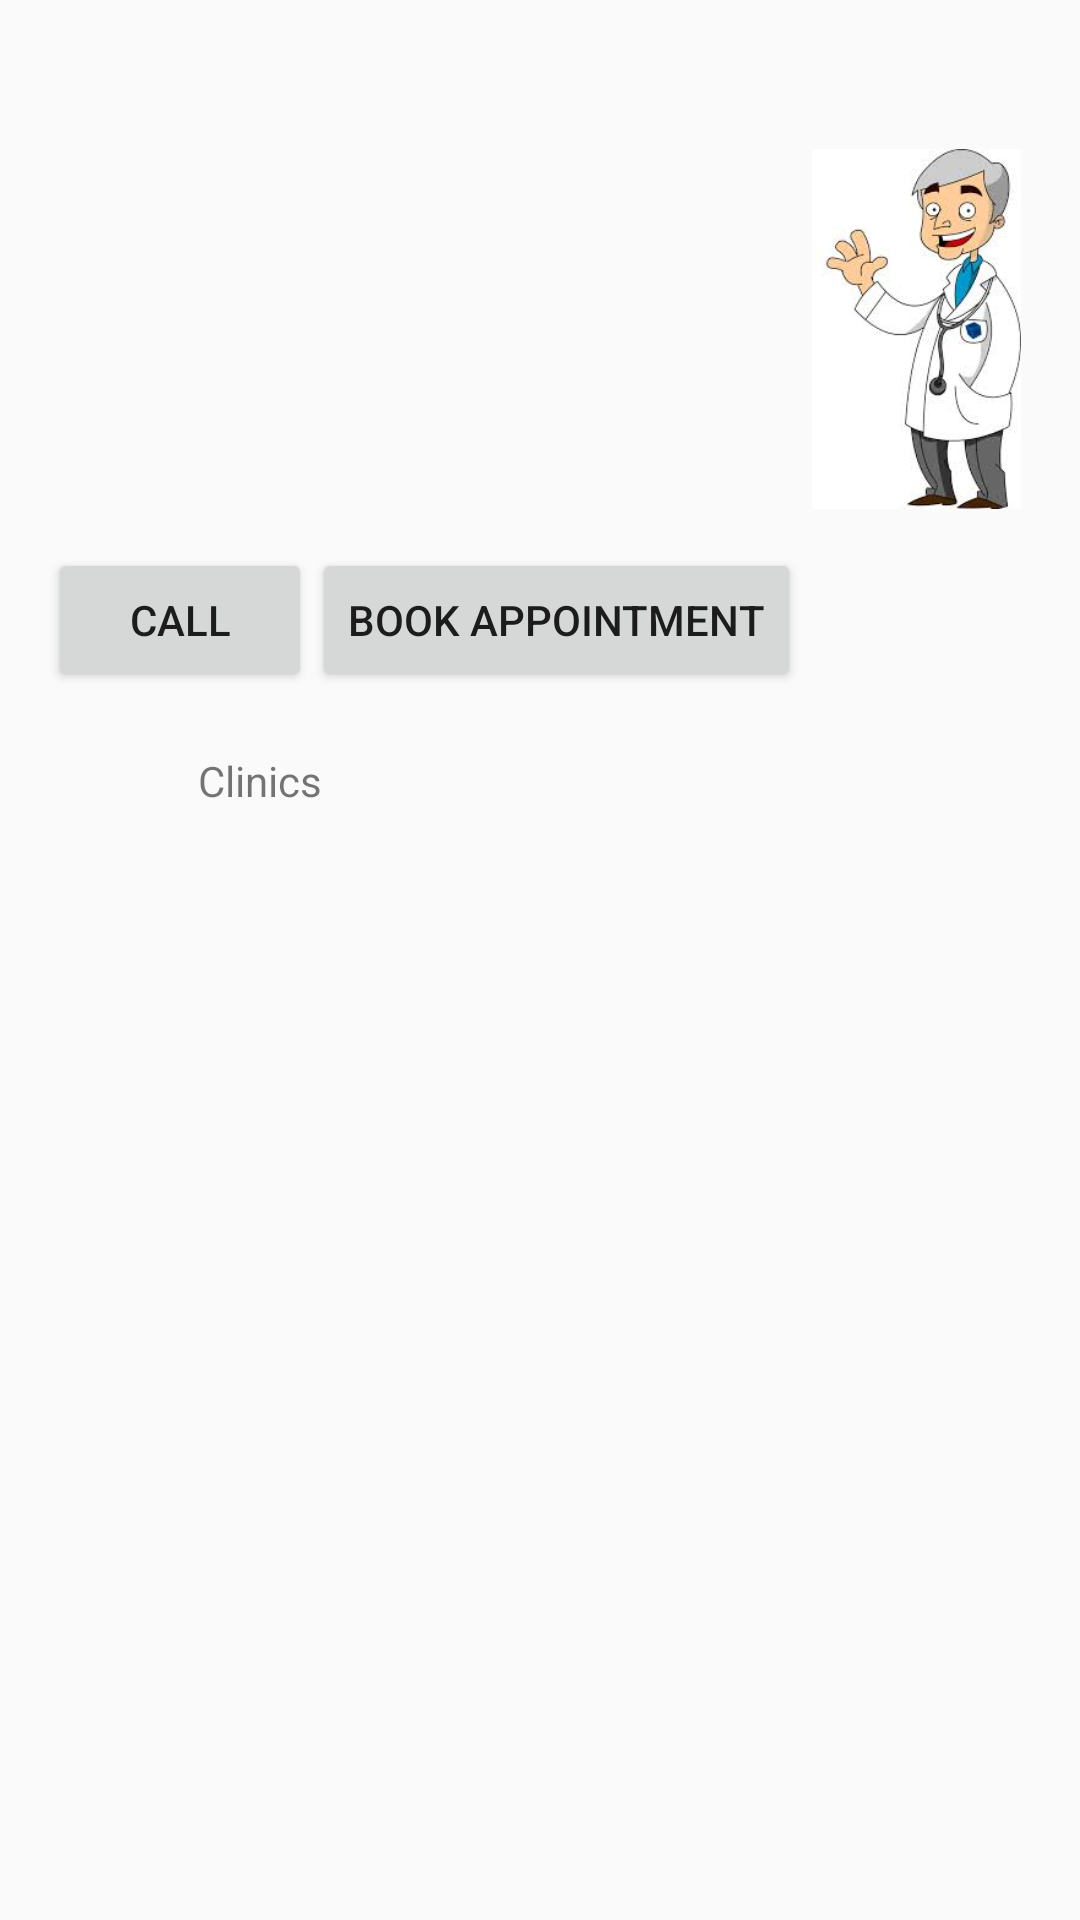

Icon click points for this 1080 x 1920 phone screenshot, format [x,y]:
doctor: [923,329]
